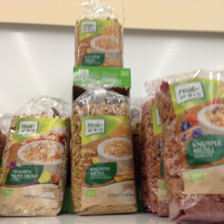cereal: (153, 71, 224, 220), (1, 96, 69, 216), (71, 90, 136, 212), (74, 12, 125, 68)
